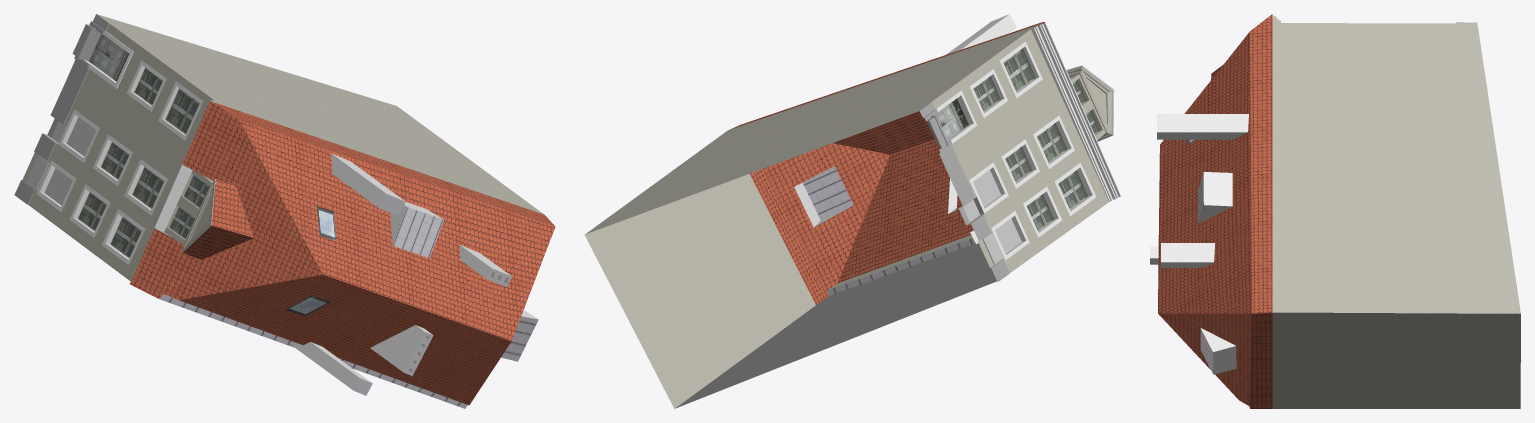
The model's file is Pikk_46.obj.
3 renders of one model, left to right at view 1: azimuth 30°, elevation 25°; view 2: azimuth 150°, elevation 25°; view 3: azimuth 270°, elevation 25°, orthographic. The views are drawn at different scales.
Visible parts, largest first — view 1: Pikk_46; view 2: Pikk_46; view 3: Pikk_46.
Part boxes in pixels (left/top/right/bottom): Pikk_46: left=14, top=14, right=555, bottom=408; Pikk_46: left=584, top=14, right=1121, bottom=408; Pikk_46: left=1150, top=14, right=1520, bottom=408.
Size of the model in its own units: 20.64 by 16.92 by 19.16.
